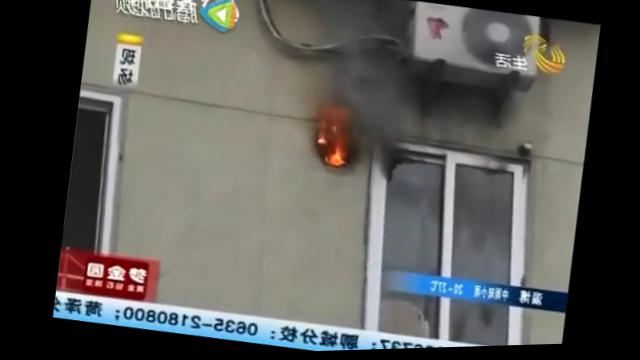fire: (325, 145, 347, 169), (317, 134, 327, 146)
